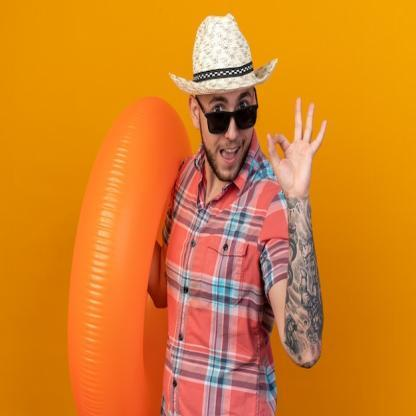ok: (264, 92, 330, 198)
